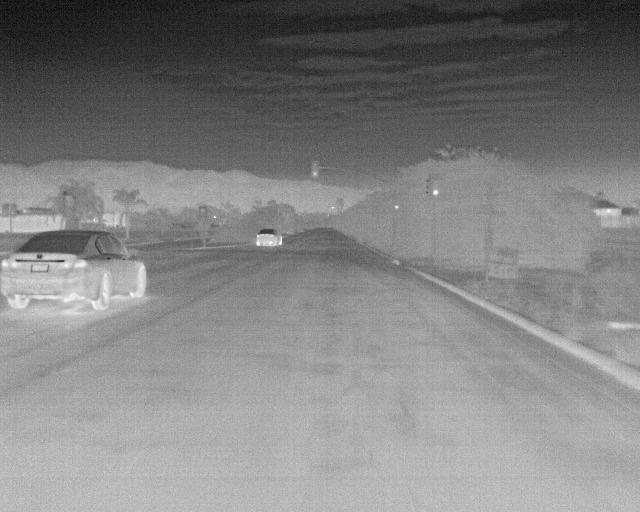car: (0, 228, 148, 312), (253, 228, 282, 250)
